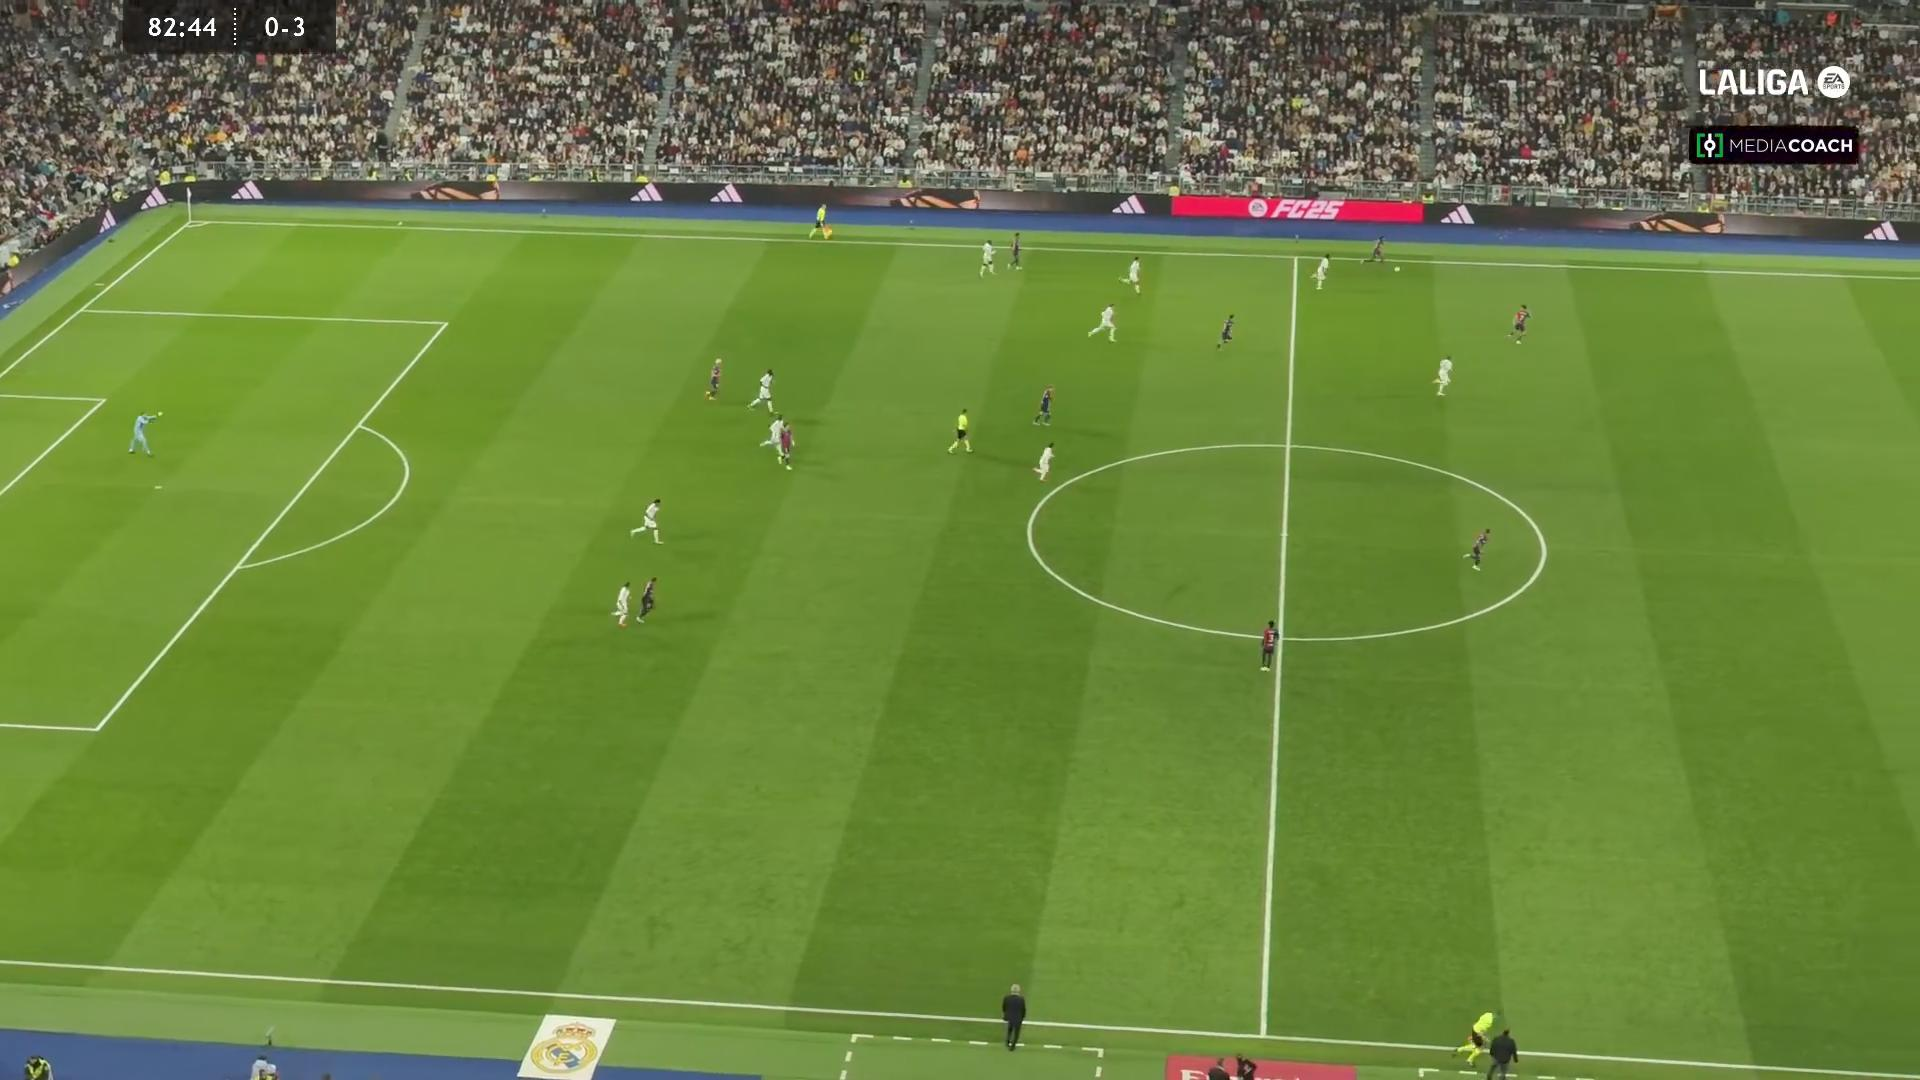ball: (1394, 266, 1400, 273)
goalkeeper: (126, 410, 163, 456)
player: (760, 413, 794, 470), (629, 497, 663, 544), (747, 368, 774, 414), (1086, 303, 1117, 342), (634, 575, 657, 623), (1465, 527, 1490, 571), (1259, 618, 1277, 671), (1032, 442, 1055, 482), (1119, 255, 1142, 295), (1032, 385, 1054, 426), (1509, 303, 1530, 345), (612, 580, 631, 626), (1432, 355, 1453, 396), (704, 356, 723, 400), (1311, 253, 1330, 290), (1216, 312, 1235, 348), (978, 239, 996, 277), (1007, 231, 1022, 270), (1371, 235, 1385, 267)
referee: (947, 407, 973, 453), (807, 202, 832, 240)
staff: (1001, 982, 1026, 1049)
